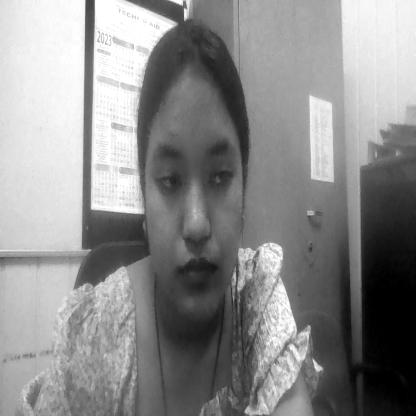Normal: (145, 92, 245, 308)
